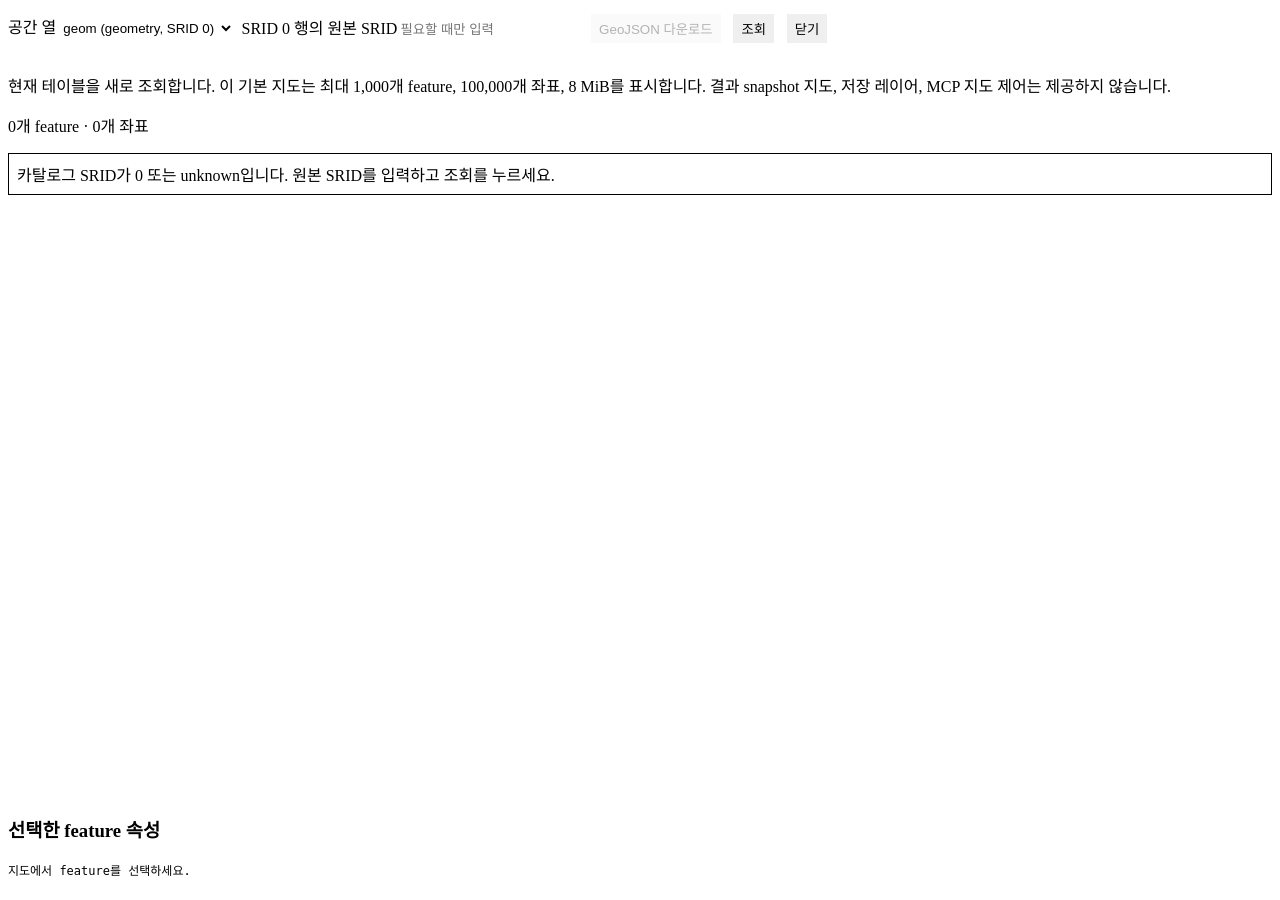
Test case: 기본 PostgreSQL 지도 호환 UI › SRID 0 행에 양의 SRID를 입력하면 조건부 설정 후 새로 표시합니다.
The image size is (1280, 900).
Expected: the message "카탈로그 SRID가 0 또는 unknown입니다. 원본 SRID를 입력하고 조회를 누르세요." is shown, 8,153 -> 1272,195
Step 1. Type "4326" into the field labelled "SRID 0 행의 원본 SRID" → (489, 29), box 397,18 -> 581,40
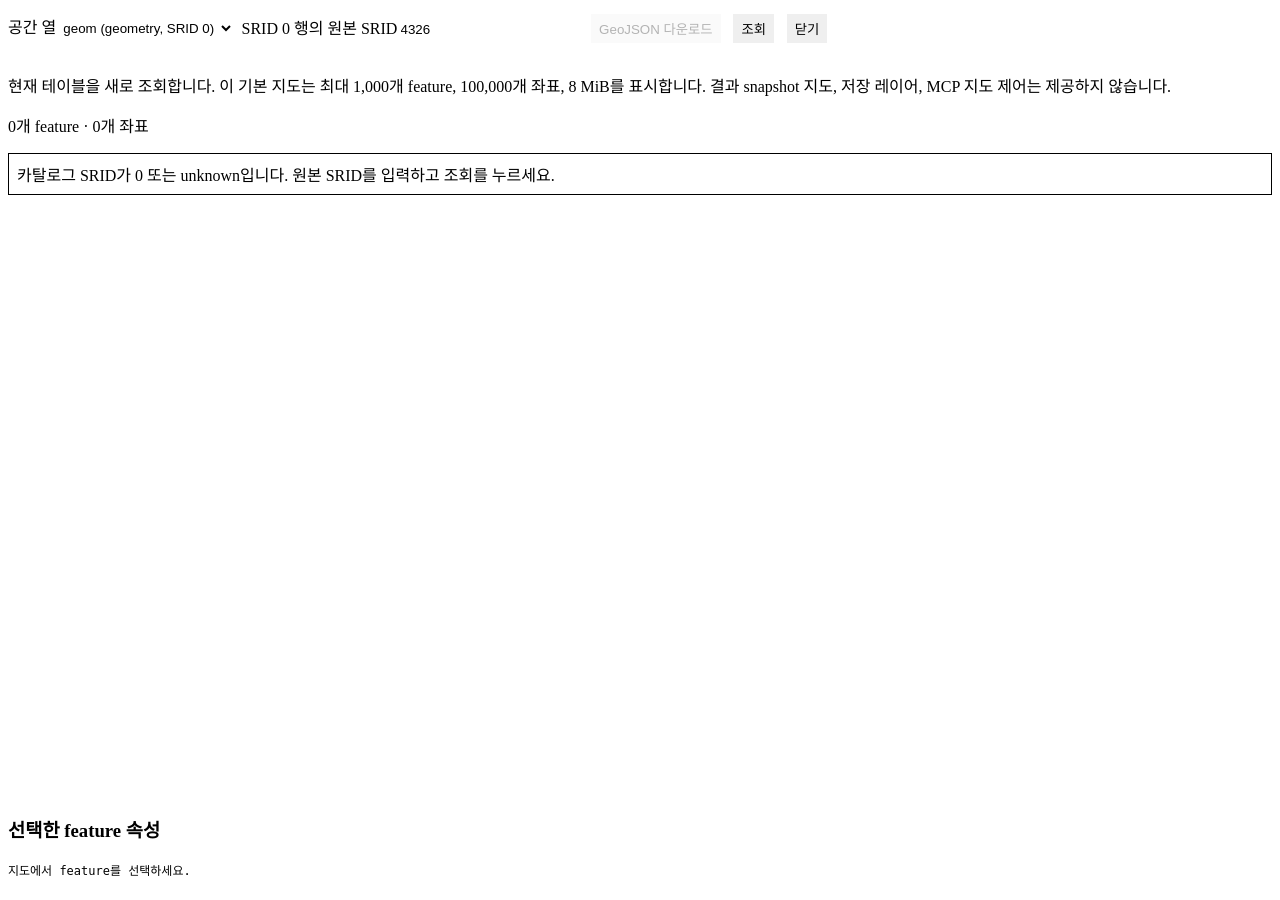
Step 2. Click the button "조회" → (754, 29), box 733,14 -> 774,43
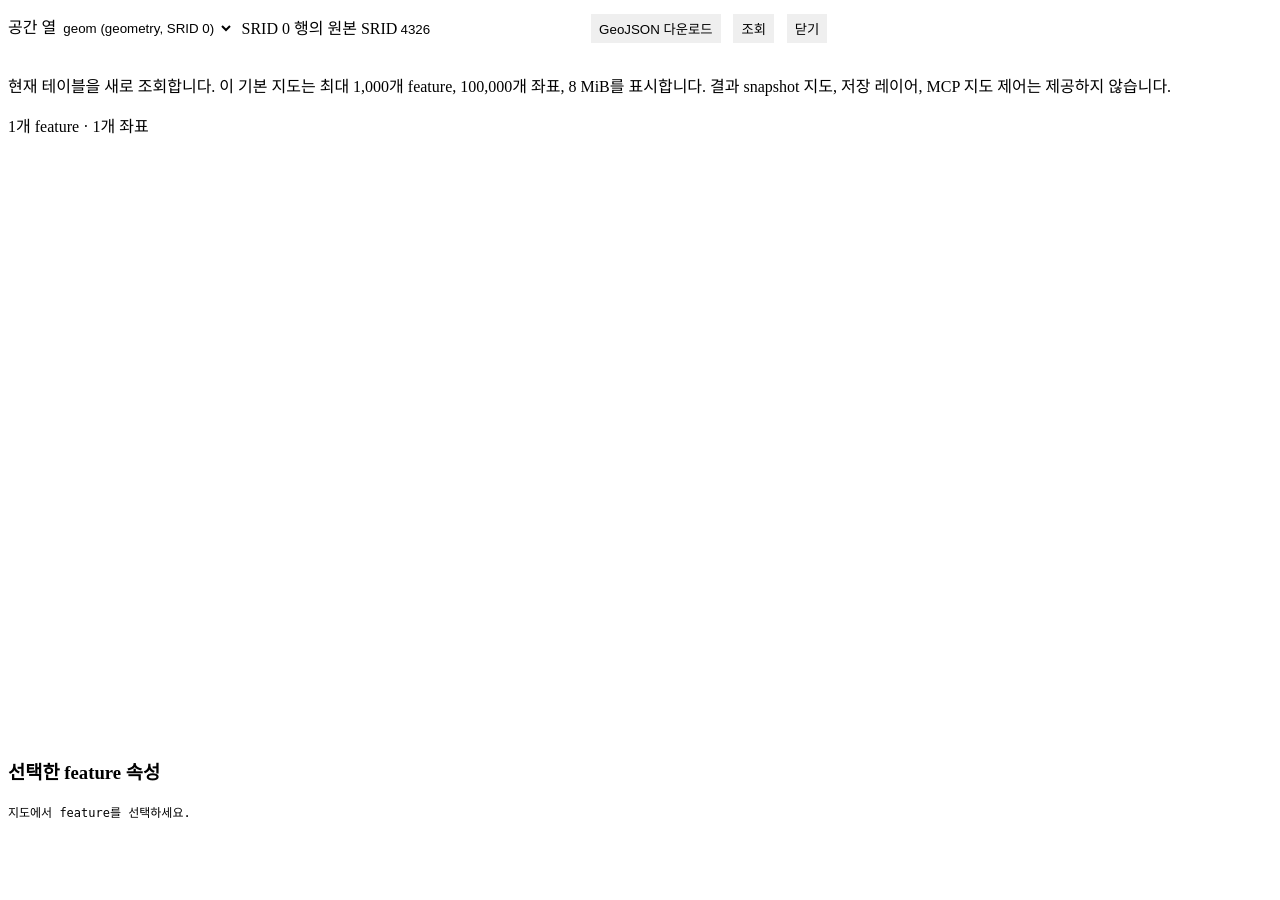
Result: the message shows "1개 feature" at 8,118 -> 149,135
